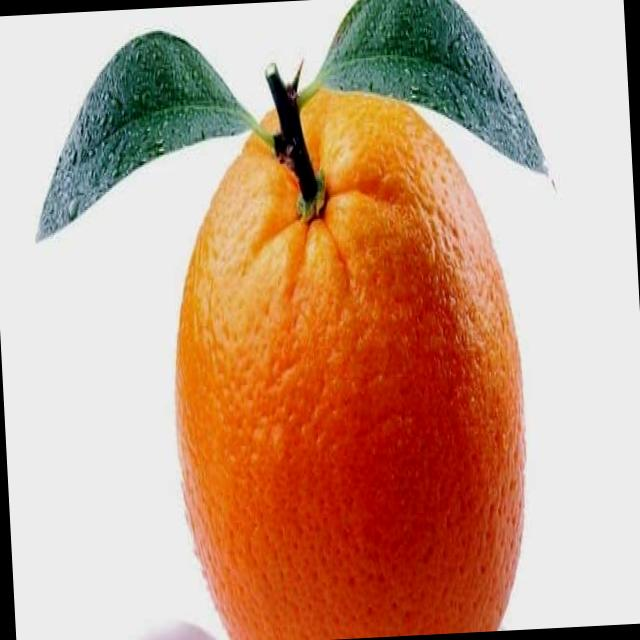orange: (145, 73, 535, 640)
